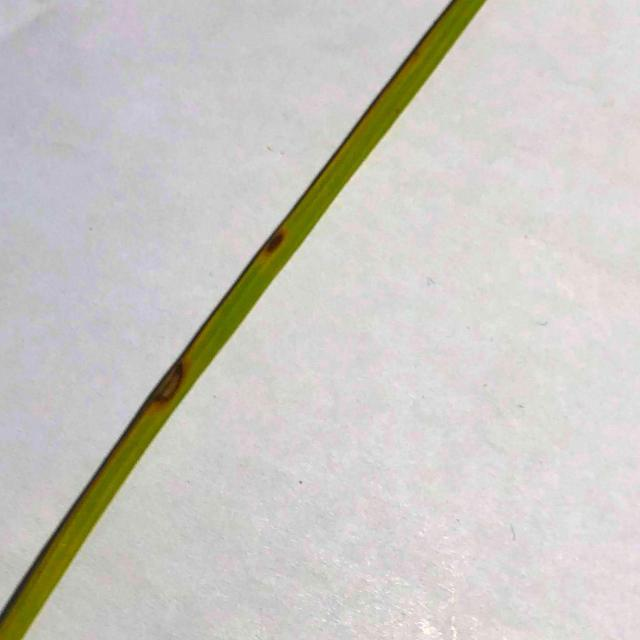Blast: (153, 352, 193, 406), (259, 232, 286, 258)
